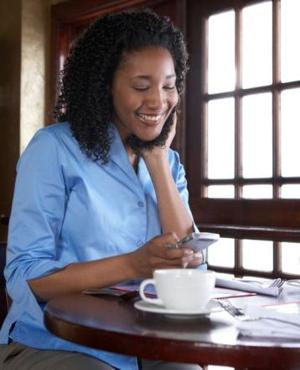person: (1, 11, 207, 370)
